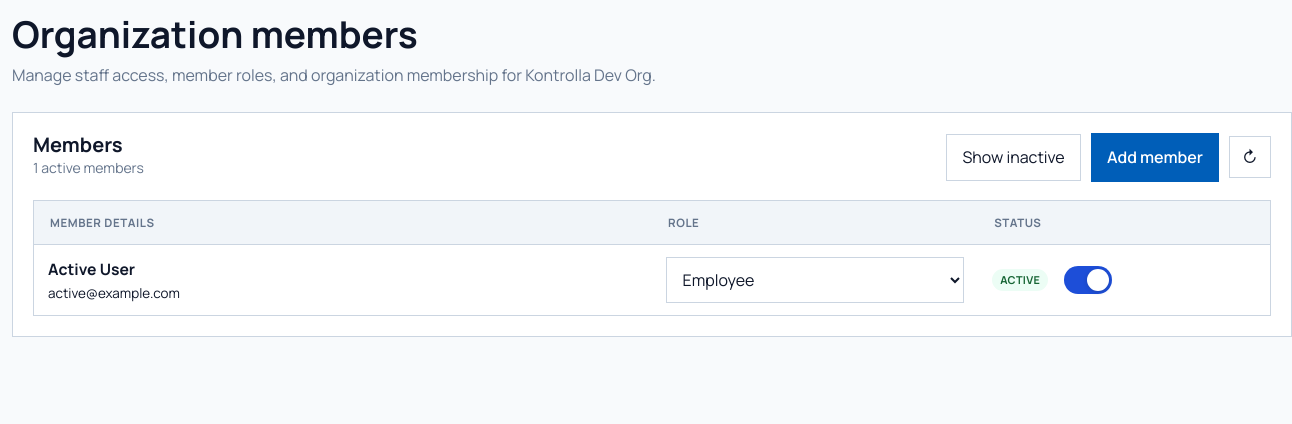
Test: OrganizationMembersPage › loads active members by default and requests inactive members on demand
This screenshot has width=1292, height=424.
Expected: the text "inactive@example.com" is not shown
Step 1. Click the button "Show inactive" → (1014, 157), box [946,134,1081,181]
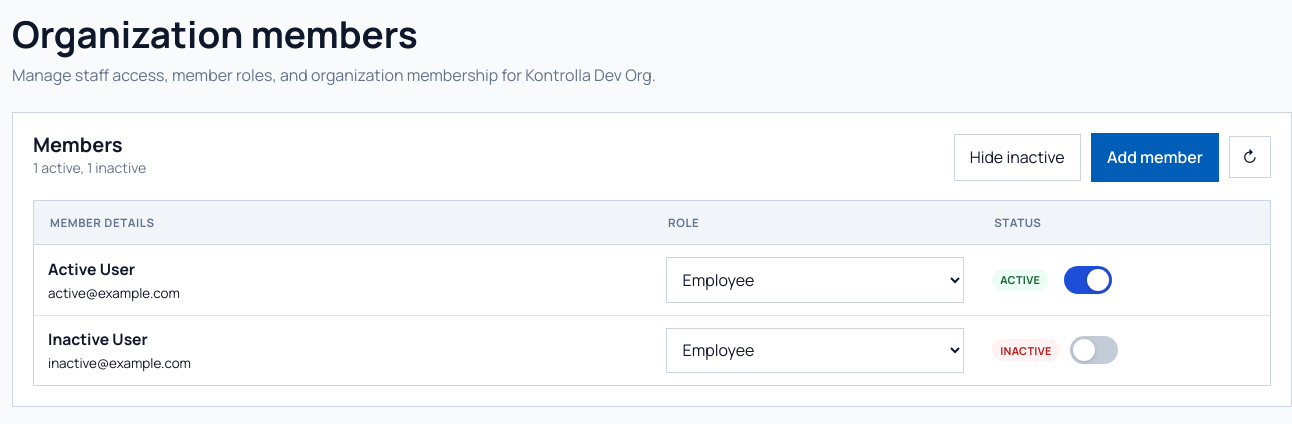
Now the text "inactive@example.com" is shown, box [48,354,191,372]
Now the text "1 active, 1 inactive" is shown, box [33,156,146,178]
